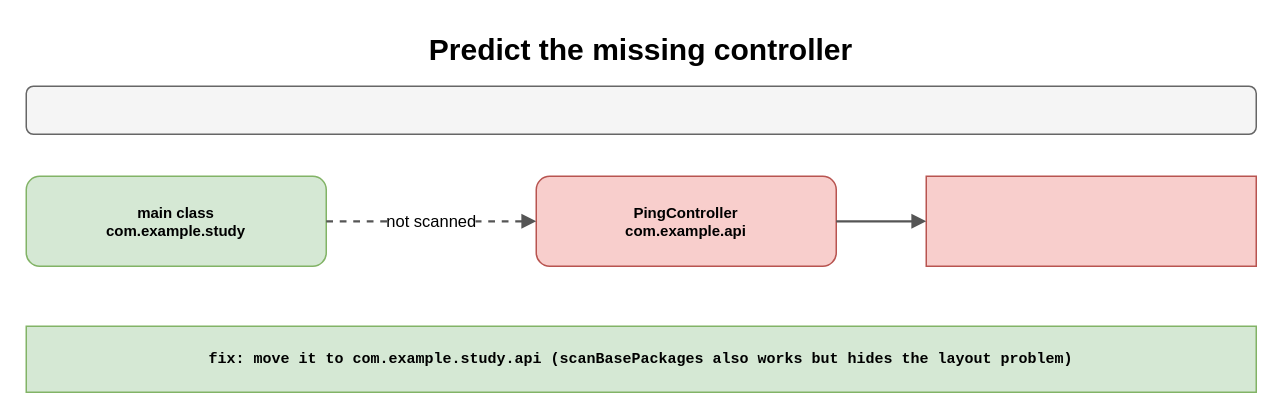
Some shapes in this 1283 by 419 pixel diagram are drawn without their labels. Here are the shapes that lost their labels. From the top down, the centre of each, then its label:
[640,109]: Scanning covers only com.example.study and below
[1090,220]: GET /api/ping → 404
